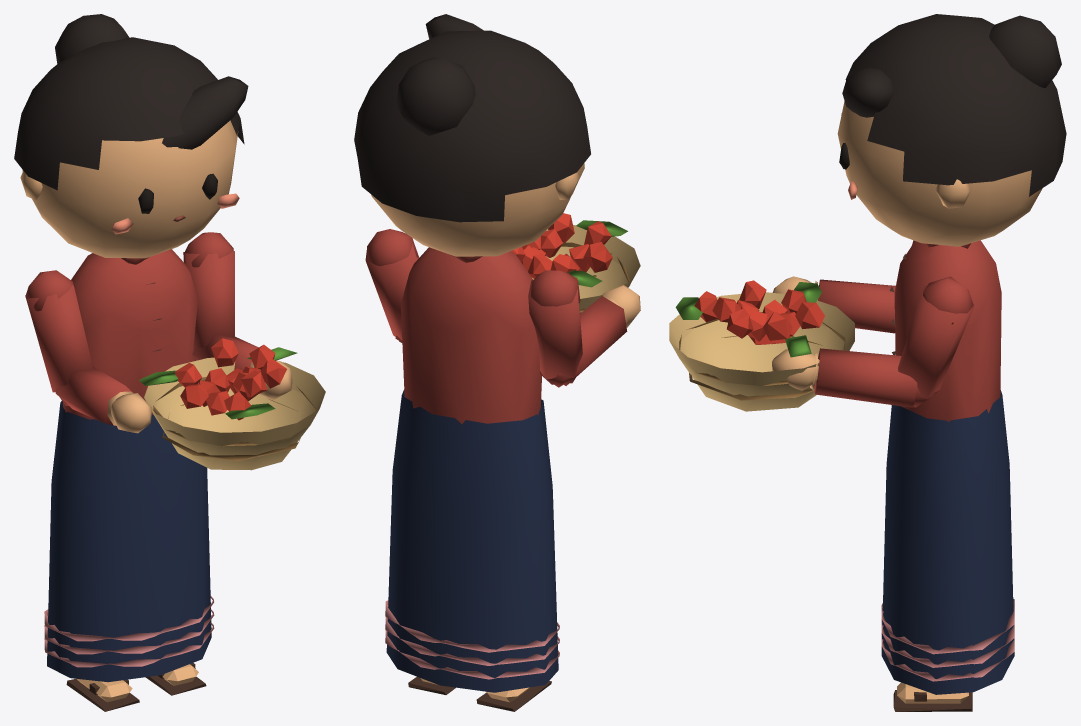
The model's file is east_rambutan_woman.glb.
3 renders of one model, left to right at view 1: azimuth 30°, elevation 25°; view 2: azimuth 150°, elevation 25°; view 3: azimuth 270°, elevation 25°, orthographic. The views are drawn at different scales.
Visible parts, largest first — view 1: body, head, prop_rambutan_basket, arm_R, arm_L, forearm_R, shin_R, forearm_L, shin_L; view 2: body, head, prop_rambutan_basket, arm_R, arm_L, forearm_R, shin_R; view 3: body, head, prop_rambutan_basket, forearm_L, arm_L, forearm_R, shin_L.
Boxes of the visible parts, left/top/right/bottom form: body: left=44, top=249, right=214, bottom=682; head: left=14, top=14, right=248, bottom=258; prop_rambutan_basket: left=139, top=338, right=325, bottom=470; arm_R: left=25, top=270, right=93, bottom=392; arm_L: left=183, top=232, right=234, bottom=351; forearm_R: left=55, top=366, right=152, bottom=433; shin_R: left=66, top=678, right=139, bottom=711; forearm_L: left=192, top=334, right=292, bottom=399; shin_L: left=146, top=663, right=206, bottom=695; body: left=385, top=247, right=559, bottom=692; head: left=354, top=14, right=590, bottom=256; prop_rambutan_basket: left=511, top=213, right=640, bottom=313; arm_R: left=528, top=270, right=582, bottom=387; arm_L: left=365, top=229, right=419, bottom=342; forearm_R: left=540, top=284, right=640, bottom=385; shin_R: left=476, top=681, right=551, bottom=711; body: left=881, top=240, right=1014, bottom=694; head: left=837, top=14, right=1066, bottom=246; prop_rambutan_basket: left=669, top=280, right=854, bottom=411; forearm_L: left=772, top=348, right=935, bottom=407; arm_L: left=898, top=276, right=974, bottom=407; forearm_R: left=772, top=276, right=895, bottom=333; shin_L: left=893, top=682, right=972, bottom=711.
Bounding box in the file's own units: 0.4966 × 1.47 × 0.7924.
